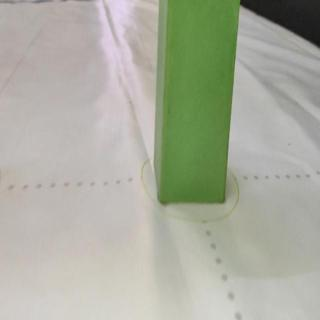greenbox: (155, 0, 241, 202)
